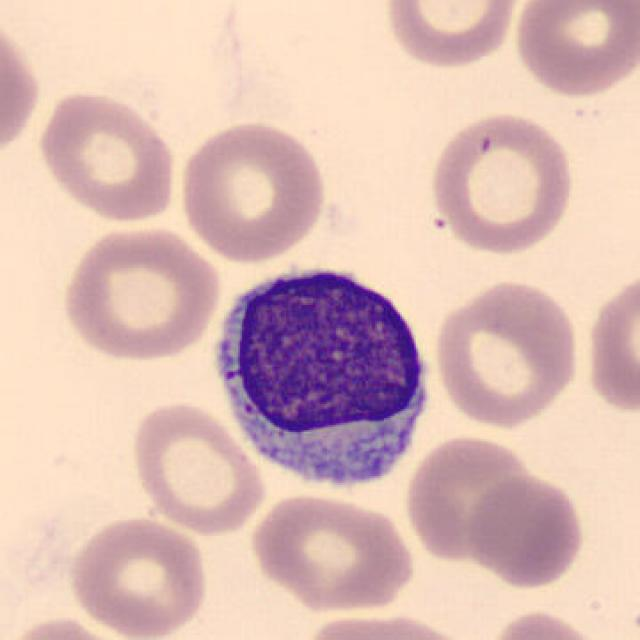Lymphocyte: (199, 252, 443, 501)
RBC: (57, 220, 224, 365), (429, 275, 583, 430), (425, 108, 579, 258), (174, 116, 329, 264), (245, 488, 416, 614), (34, 86, 180, 226), (126, 397, 267, 536), (64, 513, 212, 638), (402, 430, 538, 566), (464, 470, 588, 590), (510, 0, 638, 100), (378, 0, 524, 71), (582, 266, 638, 420), (0, 11, 43, 166), (293, 610, 475, 640), (482, 606, 608, 640), (1, 613, 135, 640)
